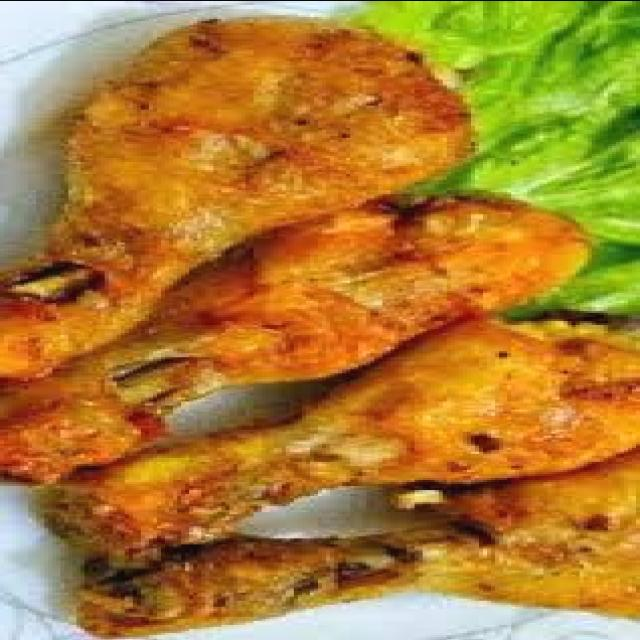ayam goreng: (0, 14, 475, 380), (0, 193, 592, 483), (36, 316, 640, 553), (72, 443, 640, 638)
